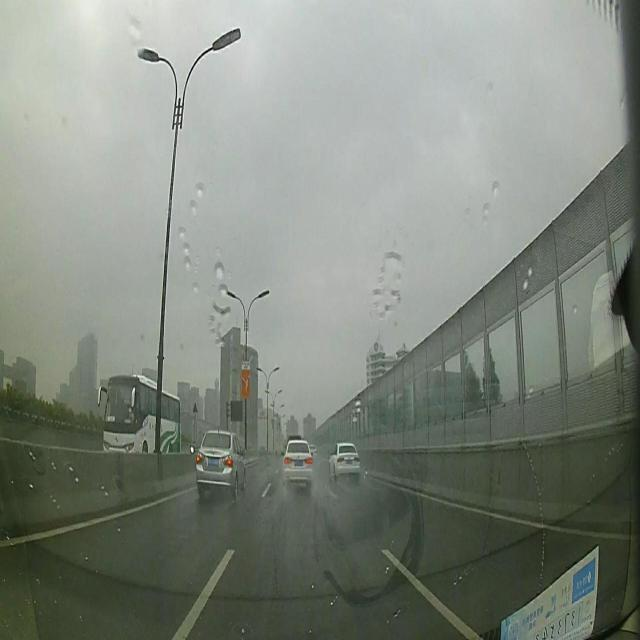car: (194, 427, 247, 495), (280, 436, 316, 486), (327, 442, 360, 480)
